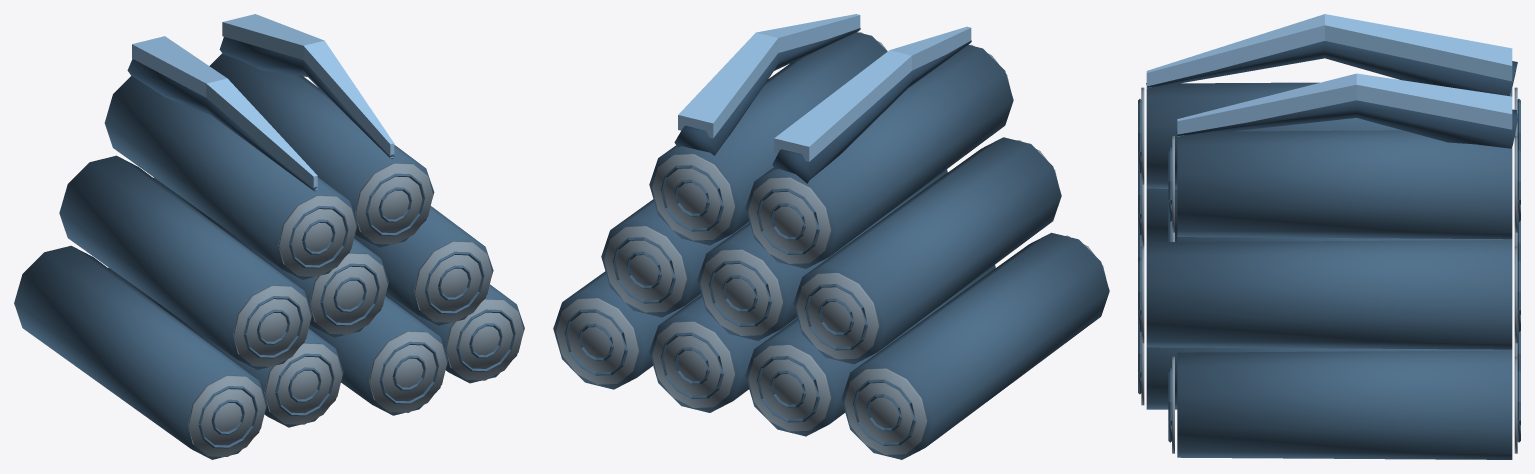
Rendered from wood_stack.glb.
3 renders of one model, left to right at view 1: azimuth 30°, elevation 25°; view 2: azimuth 150°, elevation 25°; view 3: azimuth 270°, elevation 25°, orthographic. The views are drawn at different scales.
Visible parts, largest first — view 1: Near; view 2: Near; view 3: Near.
Boxes of the visible parts, x1,y1,x2,y2 form: Near: [14, 14, 524, 459]; Near: [553, 14, 1109, 459]; Near: [1138, 14, 1520, 459].
Bounding box in the file's own units: 1.19 × 0.9492 × 1.01.
